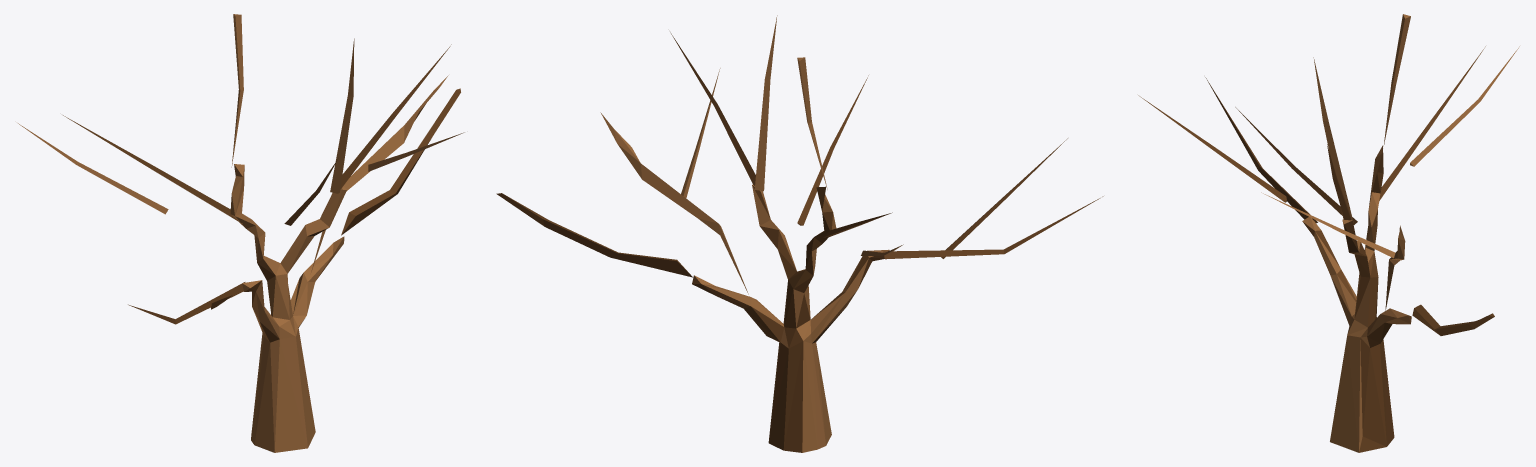
File: maple_bare_far.glb
3 views of the same model, side by side, from view 1: azimuth 30°, elevation 25°; view 2: azimuth 150°, elevation 25°; view 3: azimuth 270°, elevation 25° (orthographic). The views are drawn at different scales.
Parts seen in each view (by area): view 1: maple_bare_far; view 2: maple_bare_far; view 3: maple_bare_far.
Boxes of the visible parts, x1,y1,x2,y2 form: maple_bare_far: (18, 14, 464, 452); maple_bare_far: (496, 15, 1103, 452); maple_bare_far: (1138, 14, 1519, 452).
Bounding box in the file's own units: 7.66 × 6.29 × 5.36.
